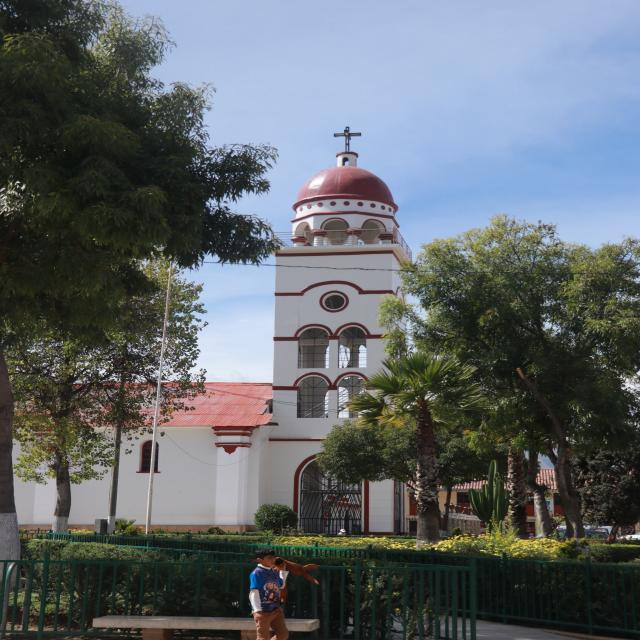CAMPANARIO: (268, 252, 420, 439)
CUPULA: (277, 140, 417, 258)
TORRES: (261, 118, 434, 552)
colonial-architecture-: (0, 45, 519, 565)
